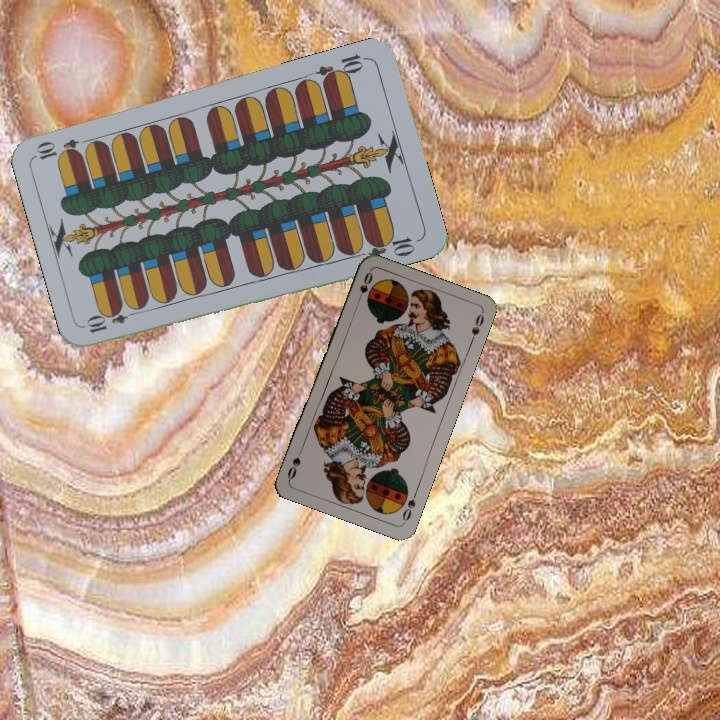E10: (312, 50, 370, 87), (83, 305, 141, 336)
SO: (353, 268, 375, 307), (398, 486, 420, 525)
